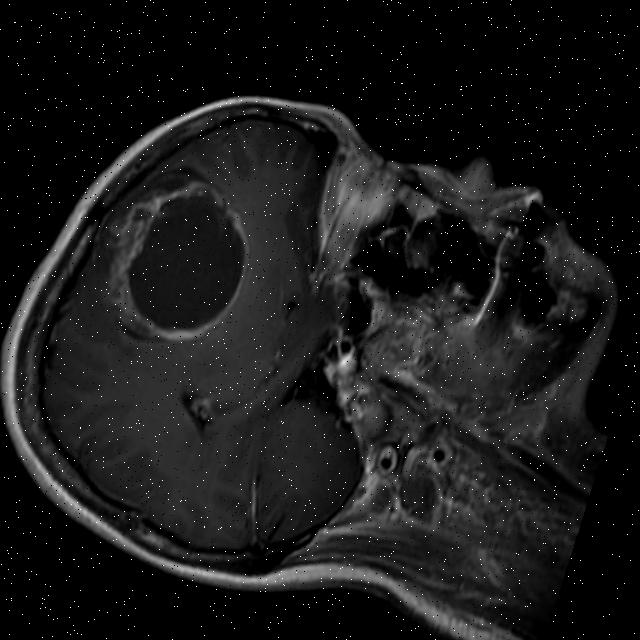Glioma: (80, 153, 271, 359)
